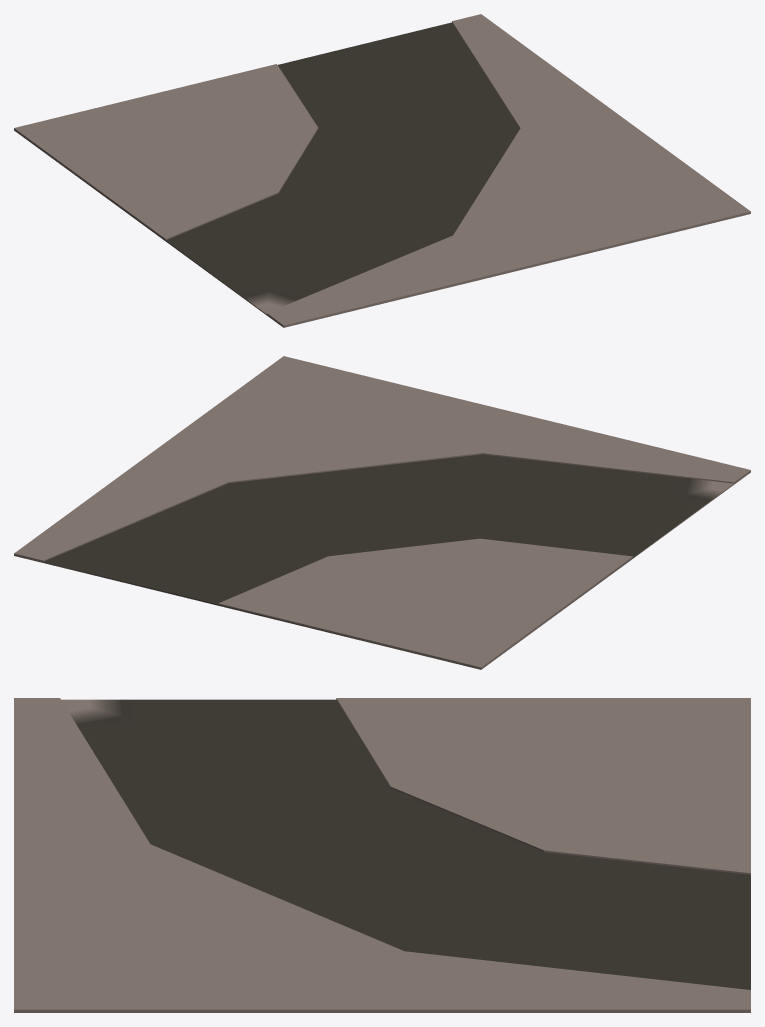
The model's file is Env_2lane_CurveA_col.fbx.
3 renders of one model, top to bottom at view 1: azimuth 30°, elevation 25°; view 2: azimuth 150°, elevation 25°; view 3: azimuth 270°, elevation 25°, orthographic. The views are drawn at different scales.
Parts seen in each view (by area): view 1: Env_2lane_CurveA_col; view 2: Env_2lane_CurveA_col; view 3: Env_2lane_CurveA_col.
Boxes of the visible parts, x1,y1,x2,y2 form: Env_2lane_CurveA_col: [14, 14, 750, 327]; Env_2lane_CurveA_col: [14, 356, 750, 669]; Env_2lane_CurveA_col: [14, 698, 750, 1012].
Size of the model in its own units: 4000 by 20 by 4000.
